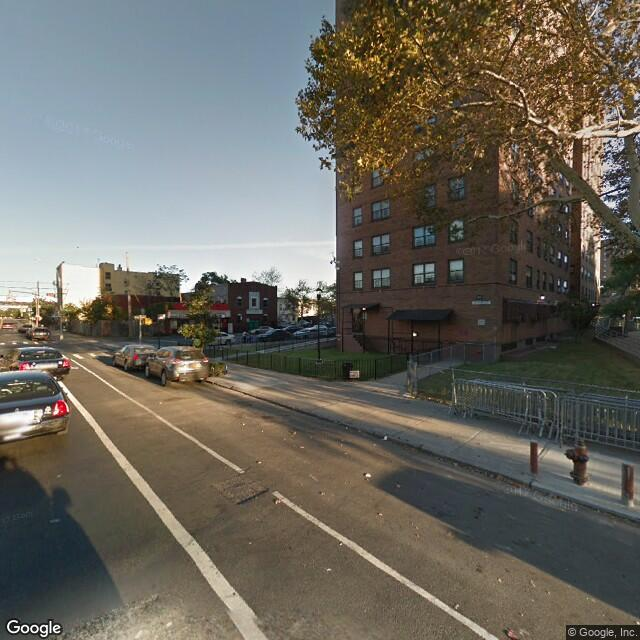litter: (381, 434, 387, 439), (364, 473, 370, 476)
